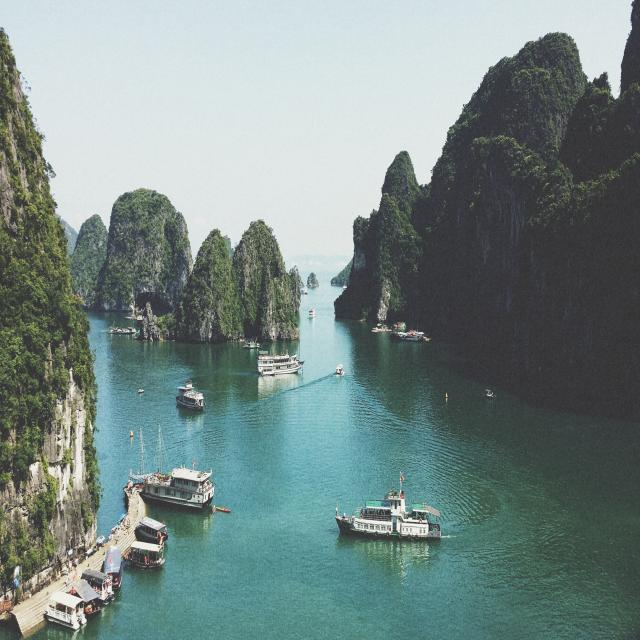ship: (326, 476, 456, 549), (125, 455, 218, 508), (170, 371, 209, 417), (120, 538, 170, 570), (73, 570, 102, 616), (44, 596, 78, 630), (131, 520, 166, 543)
